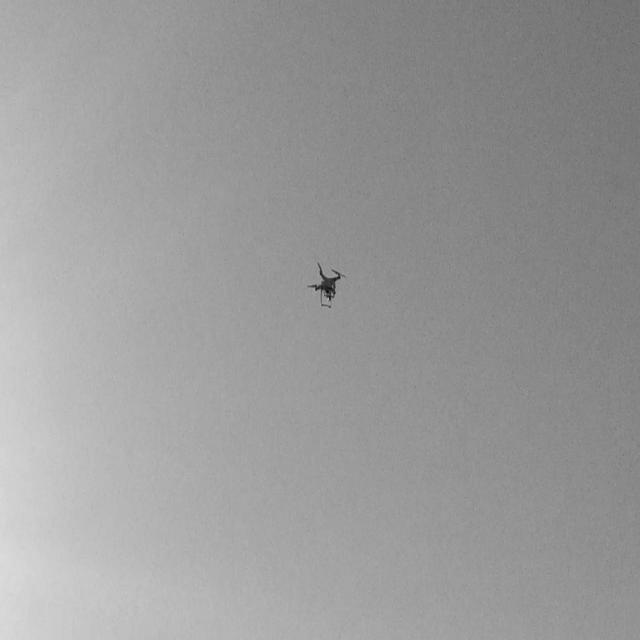drone: (304, 259, 345, 306)
